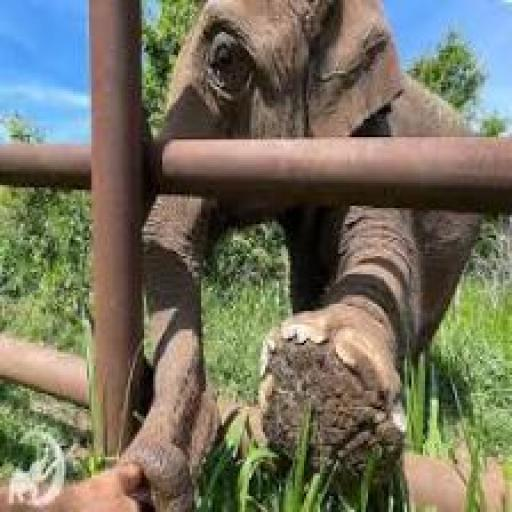Elephant: (28, 18, 500, 480)
